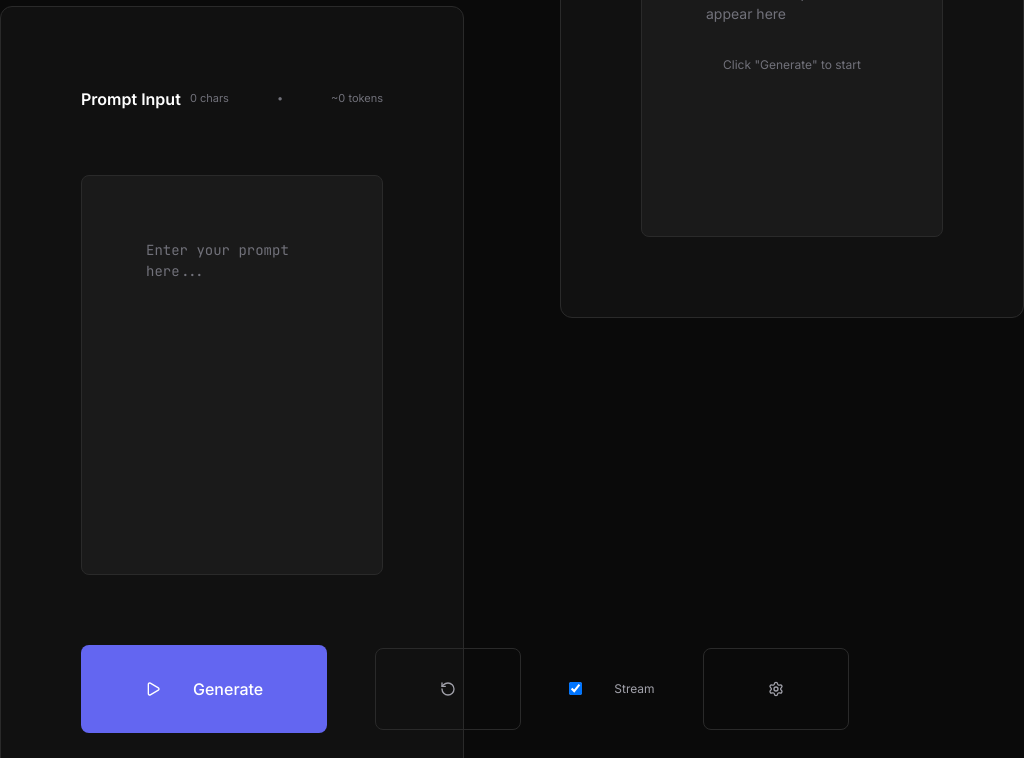
Scenario: InferencePlayground › resets prompt and output
The image size is (1024, 758).
(page scrolled)
Type "Test prompt" into the text box with placeholder "Enter your prompt here..." at (232, 375), box x1=81 y1=175 x2=383 y2=575
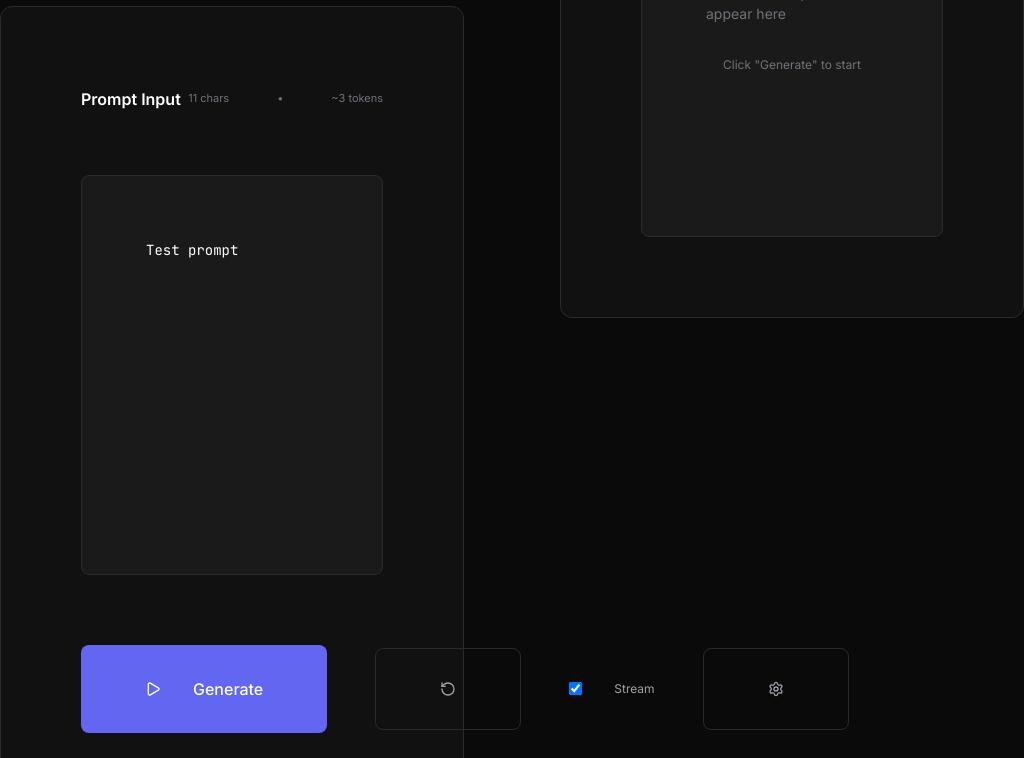
Expected: the text "11 chars" is shown, x1=188 y1=90 x2=229 y2=107
Click the 2nd button at (448, 689), box x1=375 y1=648 x2=521 y2=730
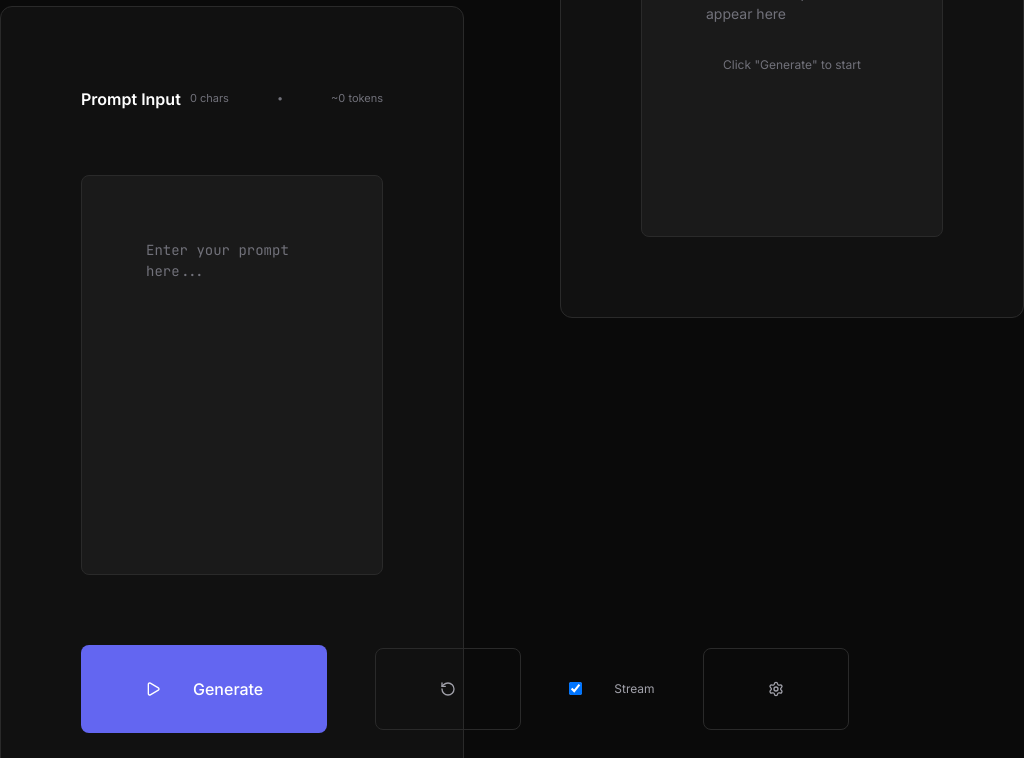
Expected: the text box with placeholder "Enter your prompt here..." is empty, x1=81 y1=175 x2=383 y2=575
Expected: the text "0 chars" is shown, x1=190 y1=90 x2=229 y2=107
